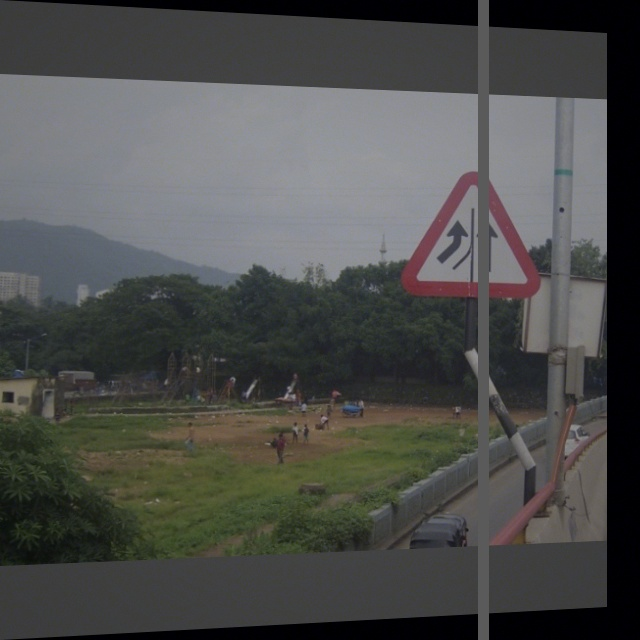Merge_Traffic_Ahead: (406, 167, 542, 304)
